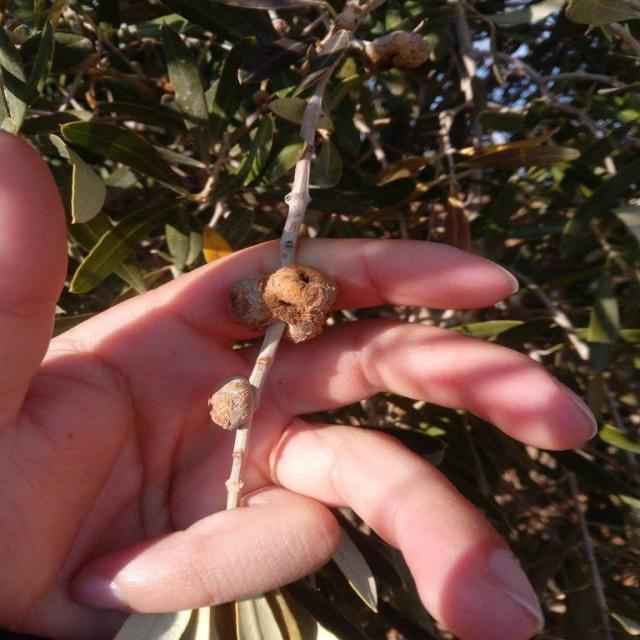Tuberculosis: (262, 264, 338, 338), (208, 376, 258, 430), (230, 276, 268, 334)
